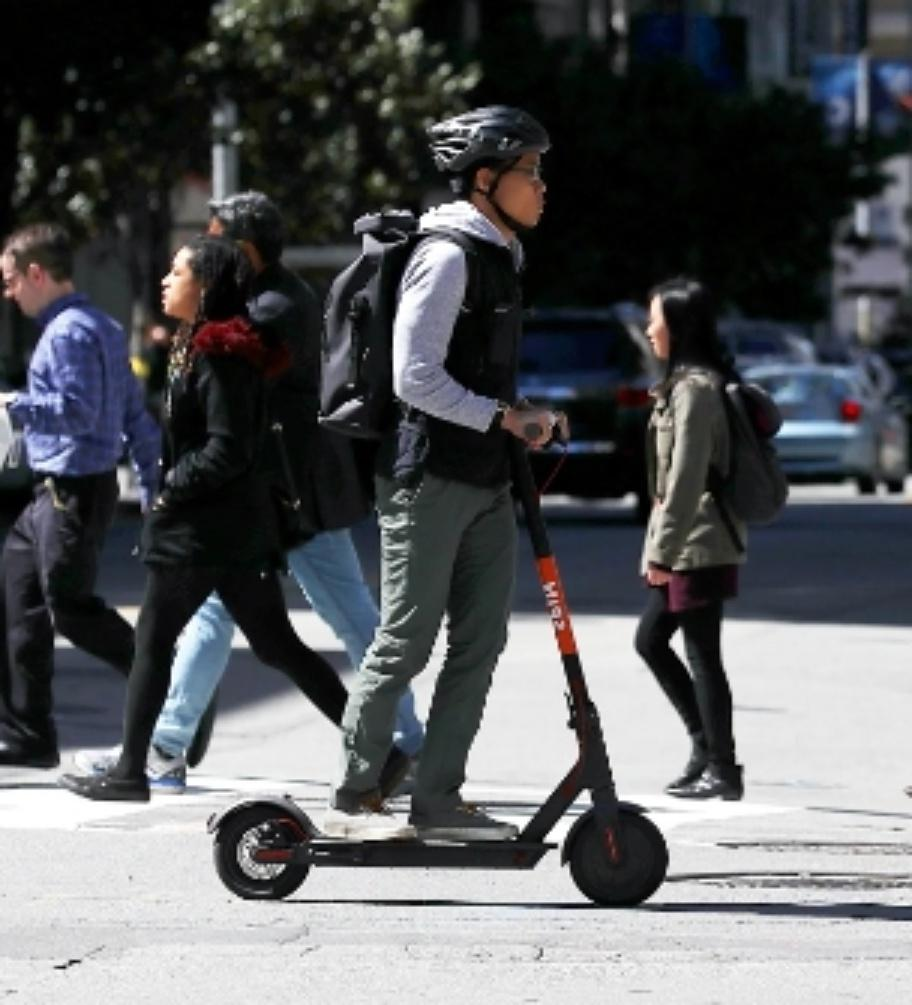helmet: (414, 100, 576, 242)
human: (325, 108, 549, 850)
kickboard: (200, 794, 680, 912)
